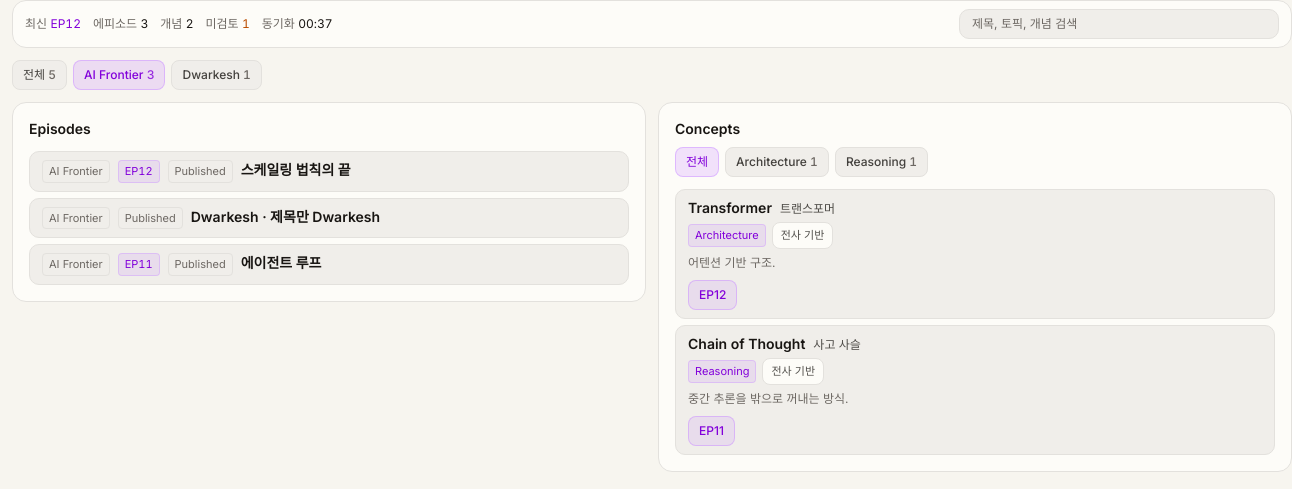
Test case: FrontierDashboard 소스 필터 › 소스 필터는 개념 쪽 개수와 상태 줄에도 함께 걸린다
This screenshot has width=1292, height=489.
Expected: the element with test id "frontier-status" is shown, 25,16 -> 333,32
Click the button "Dwarkesh 1".
click(217, 75)  # box 172,60 -> 262,90
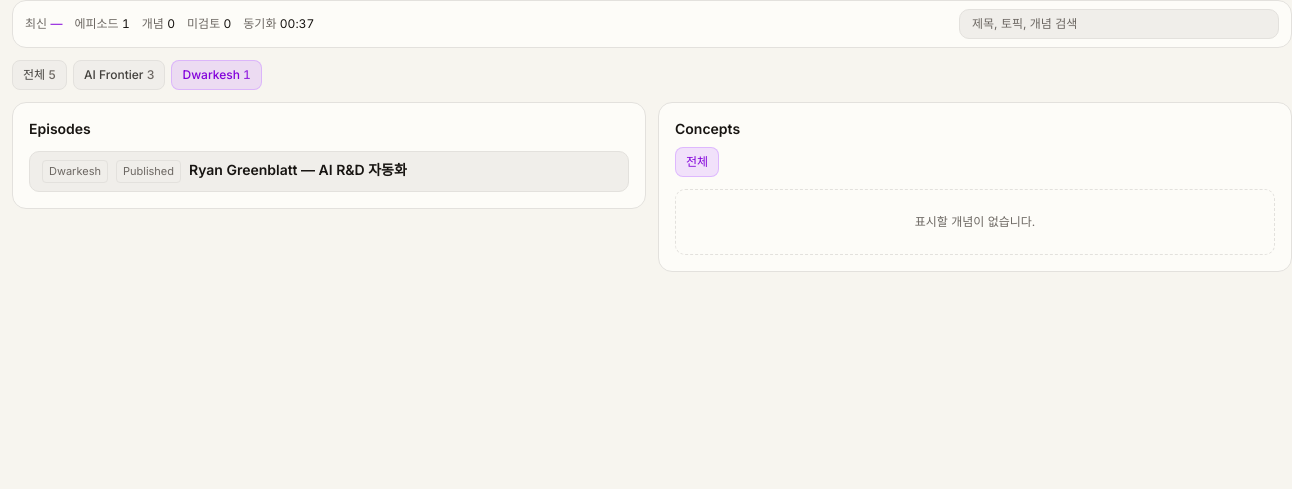
Expected: the element with test id "frontier-status" shows "에피소드 1", 25,16 -> 314,32
